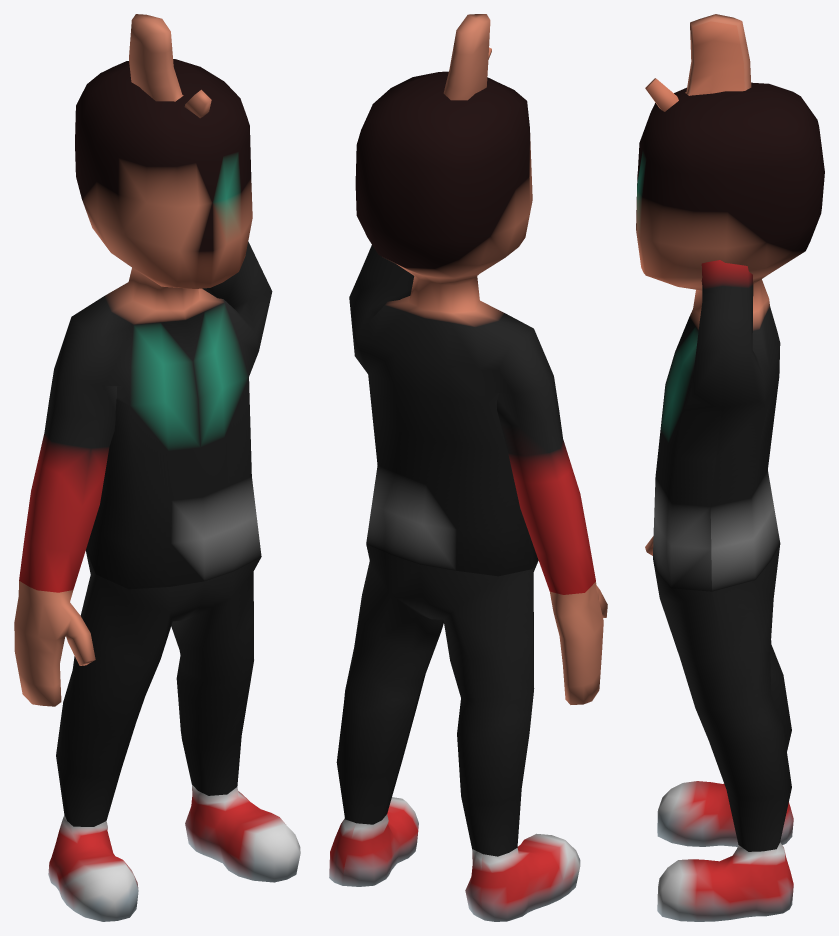
Rendered from spectatorB.glb.
The picture shows the model from 3 angles, left to right: view 1: azimuth 30°, elevation 25°; view 2: azimuth 150°, elevation 25°; view 3: azimuth 270°, elevation 25°; orthographic projection. The views are drawn at different scales.
Visible parts, largest first — view 1: spectatorB; view 2: spectatorB; view 3: spectatorB.
Part boxes in pixels (box(x1,y1,x2,y2)): spectatorB: box(14, 14, 300, 921); spectatorB: box(329, 14, 607, 921); spectatorB: box(636, 14, 824, 921).
Bounding box in the file's own units: 0.6436 × 2.08 × 0.4224.
